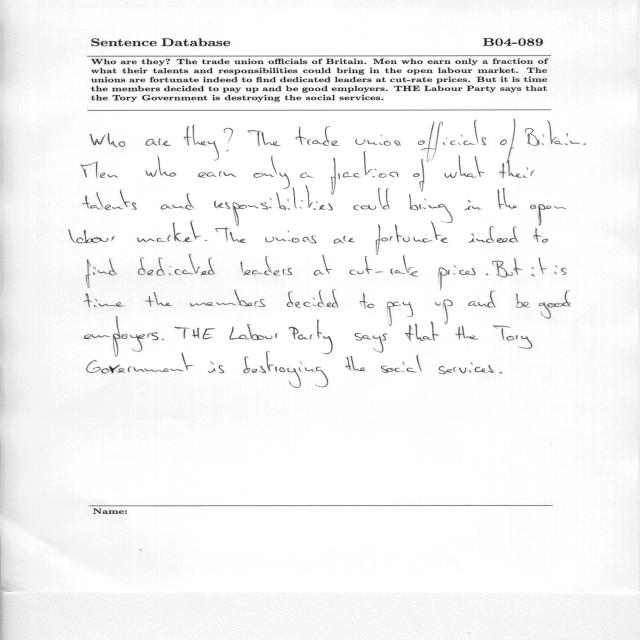word: (214, 185, 333, 226), (84, 316, 159, 356), (331, 151, 398, 195), (418, 120, 486, 162), (244, 355, 328, 388), (376, 221, 448, 255), (87, 355, 194, 373), (493, 312, 543, 349), (138, 254, 215, 276), (289, 320, 333, 355), (350, 255, 419, 277), (229, 324, 278, 354), (525, 120, 580, 146), (137, 221, 202, 242), (190, 289, 265, 307), (409, 194, 453, 223), (184, 125, 219, 161), (253, 156, 290, 189), (174, 327, 215, 354), (198, 150, 237, 178), (83, 190, 137, 210), (499, 149, 535, 178), (241, 256, 292, 276), (287, 289, 338, 308), (444, 155, 485, 178), (439, 265, 476, 290), (538, 291, 571, 319), (295, 126, 340, 146), (86, 259, 117, 288), (468, 226, 519, 243), (413, 154, 435, 192), (354, 188, 391, 210), (530, 204, 567, 226), (405, 322, 445, 342), (381, 355, 422, 373), (146, 155, 177, 177), (265, 231, 317, 244), (81, 162, 119, 179), (69, 230, 115, 244), (354, 333, 387, 352), (387, 302, 413, 326), (85, 293, 126, 308), (439, 363, 494, 374), (492, 258, 523, 277), (161, 193, 195, 210), (247, 130, 281, 146), (215, 227, 247, 243), (355, 135, 401, 146), (468, 290, 496, 308), (91, 133, 126, 147), (500, 119, 515, 149), (435, 300, 453, 325), (498, 188, 518, 209), (314, 255, 333, 276), (145, 292, 173, 306), (455, 326, 479, 340), (345, 356, 366, 371), (531, 258, 547, 277), (360, 293, 375, 309), (534, 228, 549, 243), (516, 294, 530, 308), (146, 139, 172, 146), (208, 362, 224, 373), (465, 200, 482, 210), (334, 236, 355, 244), (223, 128, 233, 142), (555, 265, 567, 275), (300, 173, 314, 178), (584, 143, 587, 145), (499, 372, 502, 374), (486, 273, 488, 275), (205, 240, 207, 241), (162, 339, 164, 340)
